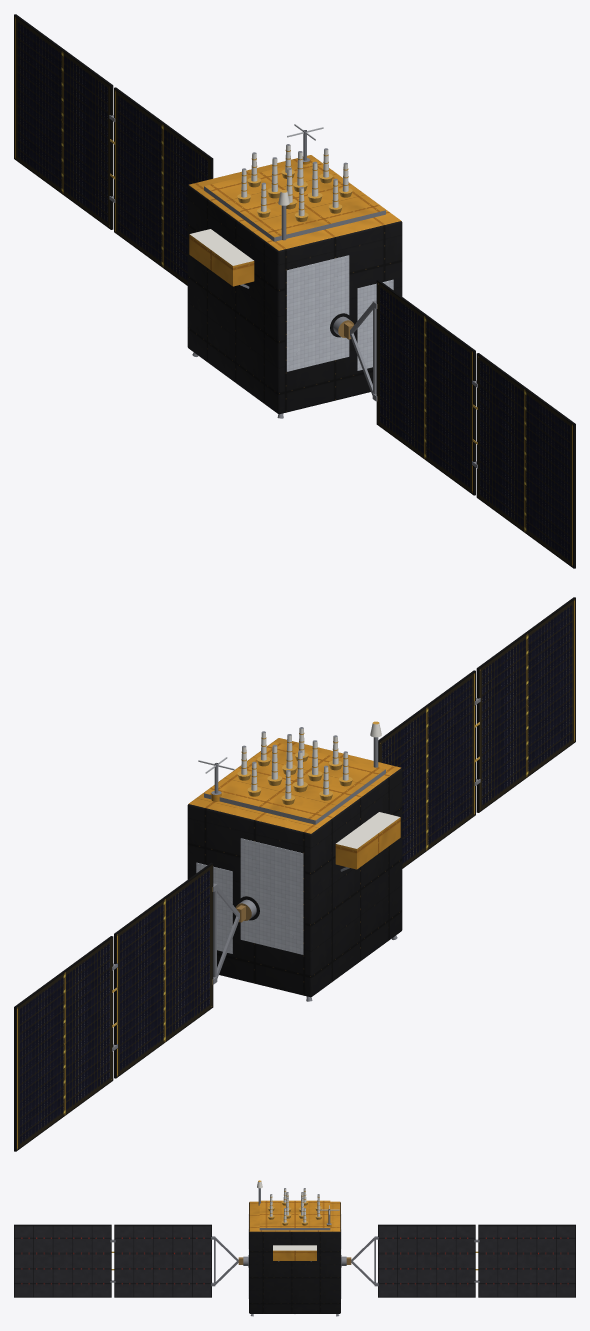
The model's file is gps-iir.glb.
3 views of the same model, one above another, from view 1: azimuth 30°, elevation 25°; view 2: azimuth 150°, elevation 25°; view 3: azimuth 270°, elevation 25° (orthographic). The views are drawn at different scales.
Visible parts, largest first — view 1: bus, wing-Y, wing+Y, lband_antenna_array, w_sensor_and_aux; view 2: bus, wing+Y, wing-Y, lband_antenna_array, w_sensor_and_aux; view 3: wing+Y, wing-Y, bus, w_sensor_and_aux, lband_antenna_array.
Part boxes in pixels (bbox=[...]): bus: bbox=[187, 155, 402, 414]; wing-Y: bbox=[344, 279, 575, 568]; wing+Y: bbox=[14, 14, 213, 285]; lband_antenna_array: bbox=[237, 144, 352, 221]; w_sensor_and_aux: bbox=[189, 124, 323, 418]; bus: bbox=[187, 738, 402, 997]; wing+Y: bbox=[14, 862, 245, 1151]; wing-Y: bbox=[378, 597, 575, 868]; lband_antenna_array: bbox=[237, 727, 352, 804]; w_sensor_and_aux: bbox=[198, 721, 400, 1001]; wing+Y: bbox=[346, 1224, 575, 1297]; wing-Y: bbox=[14, 1224, 243, 1297]; bus: bbox=[248, 1200, 341, 1313]; w_sensor_and_aux: bbox=[250, 1180, 339, 1316]; lband_antenna_array: bbox=[267, 1188, 322, 1225].
Size of the model in its own units: 2.04 by 2.72 by 11.81.
Materials: 13 (5 with a texture image).
